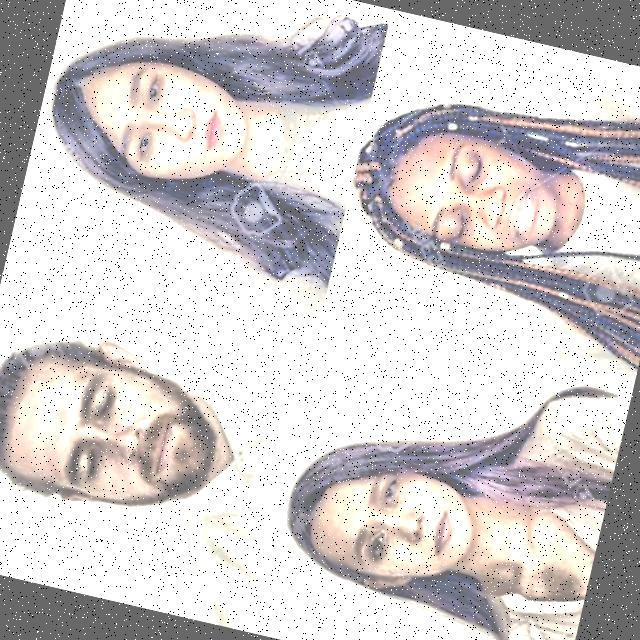sad: (0, 297, 268, 559), (27, 9, 280, 244), (357, 64, 588, 307), (282, 392, 507, 624)
